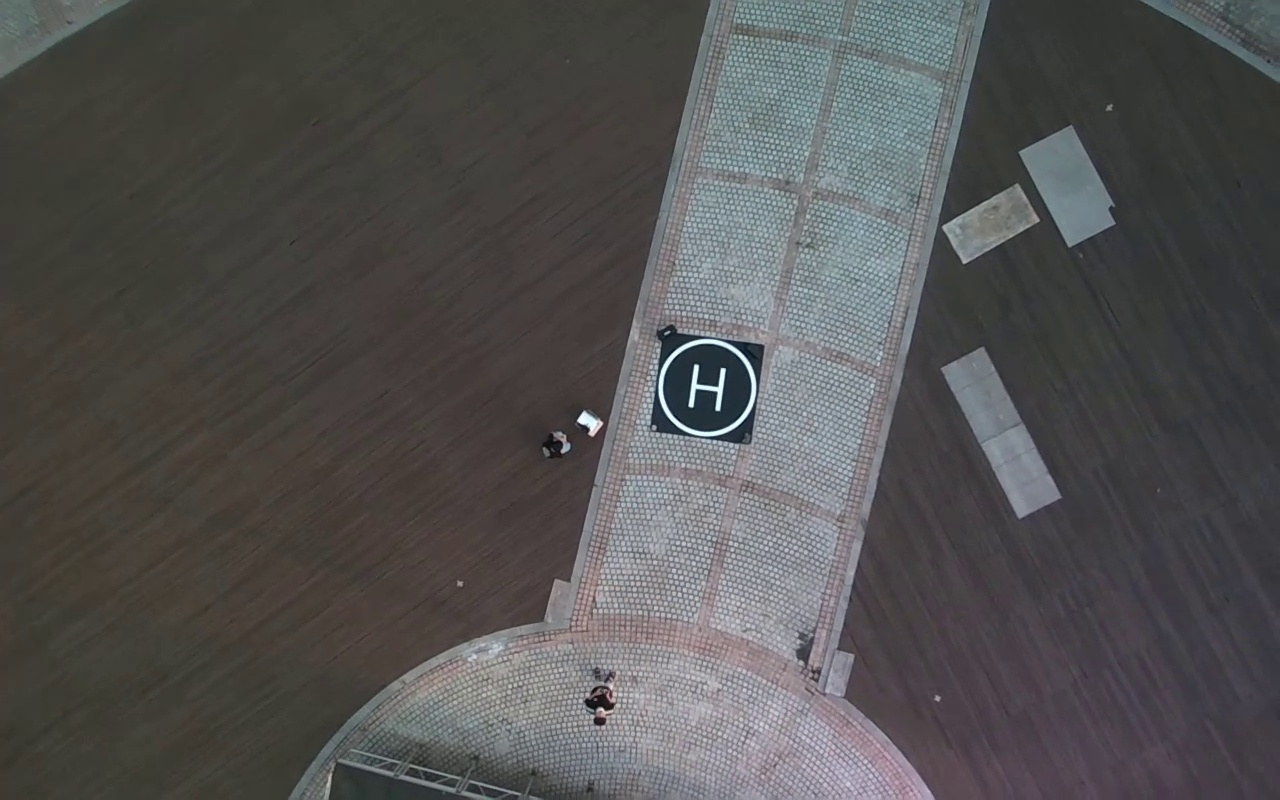H: (687, 362, 725, 411)
heliport: (658, 337, 758, 437)
